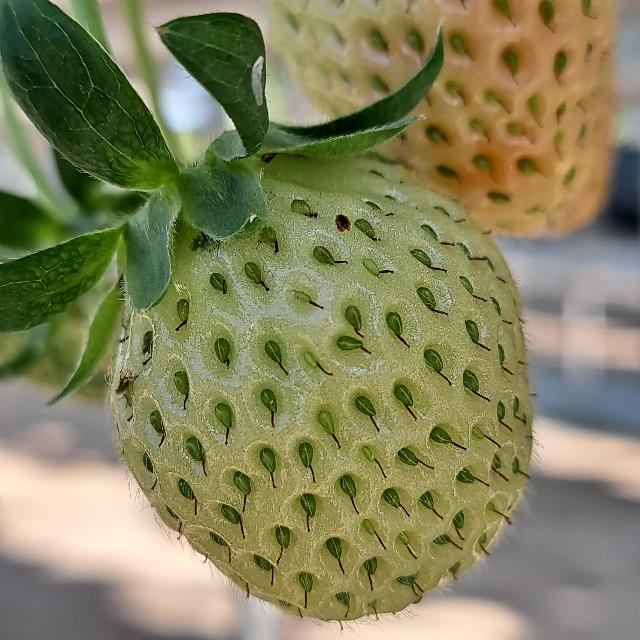Health_25: (110, 156, 532, 620)
Health_50: (266, 2, 608, 230)
